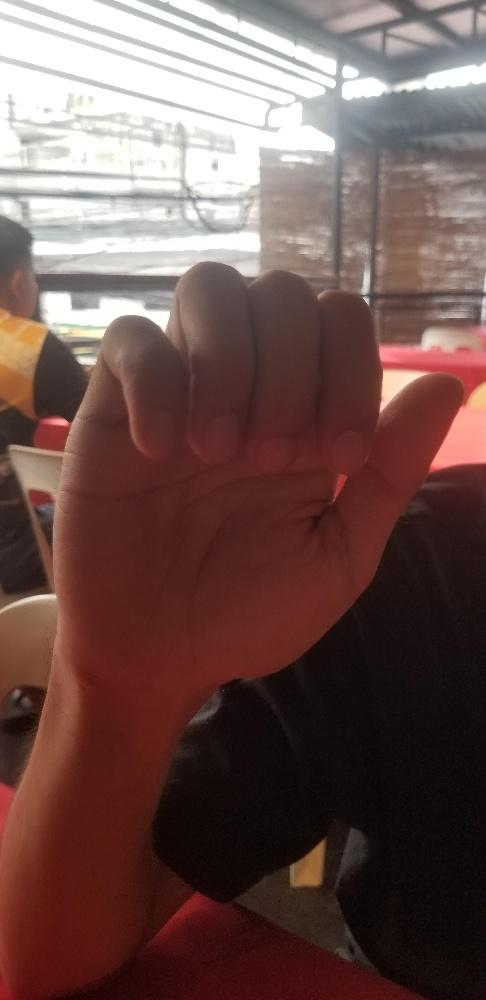e: (45, 259, 467, 702)
